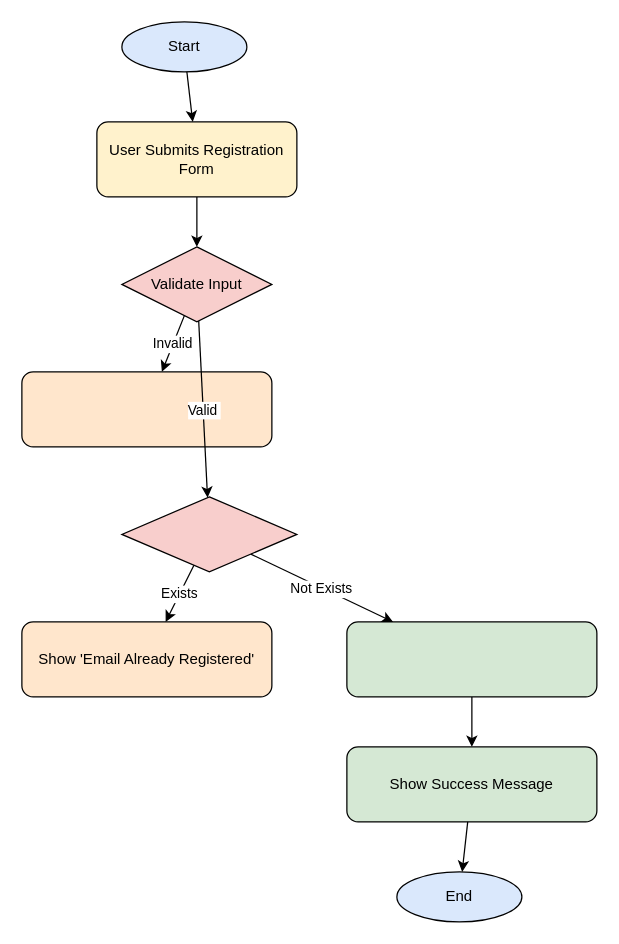
Image size: 619x944. Some labels were removed from this diagram. The box of each missing label's shape, as (x1, y1, x2, y2) in pixels:
Check if Email Exists: (121, 496, 297, 572)
Save User to Database: (346, 621, 597, 697)
Show Error & Return to Form: (21, 371, 272, 447)
